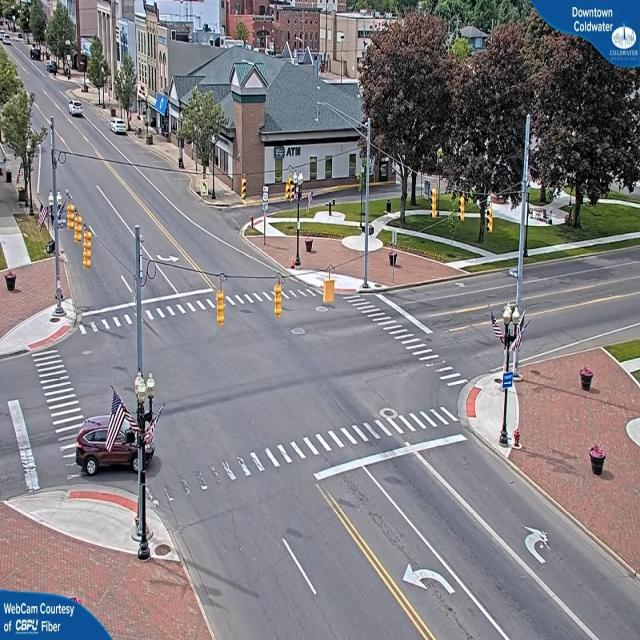car: (74, 417, 156, 476)
